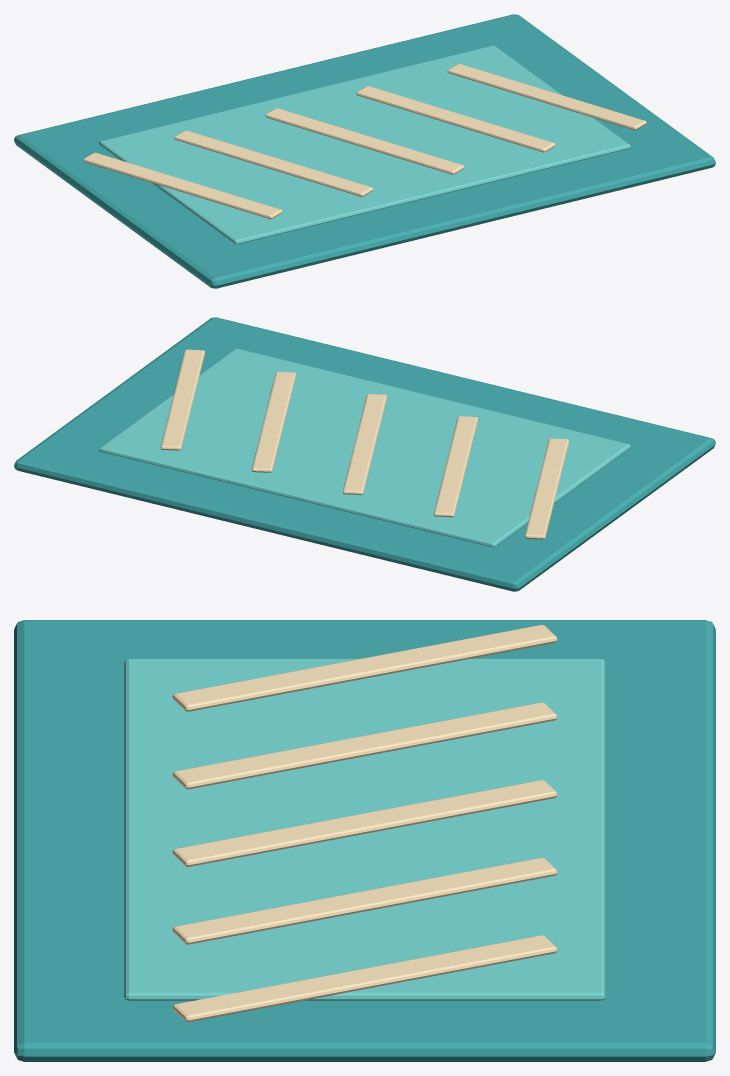
File: WovenCarpet.fbx
3 renders of one model, top to bottom at view 1: azimuth 30°, elevation 25°; view 2: azimuth 150°, elevation 25°; view 3: azimuth 270°, elevation 25°, orthographic. The views are drawn at different scales.
Visible parts, largest first — view 1: Carpet_Base, Carpet_Center, Carpet_Detail, Carpet_Detail.004, Carpet_Detail.001, Carpet_Detail.002, Carpet_Detail.003; view 2: Carpet_Base, Carpet_Center, Carpet_Detail.001, Carpet_Detail.003, Carpet_Detail.004, Carpet_Detail, Carpet_Detail.002; view 3: Carpet_Base, Carpet_Center, Carpet_Detail.004, Carpet_Detail, Carpet_Detail.001, Carpet_Detail.002, Carpet_Detail.003.
Boxes of the visible parts, <box> form: Carpet_Base: <box>14,14,715,288</box>; Carpet_Center: <box>99,45,630,244</box>; Carpet_Detail: <box>83,152,282,219</box>; Carpet_Detail.004: <box>447,64,646,130</box>; Carpet_Detail.001: <box>174,130,373,196</box>; Carpet_Detail.002: <box>265,108,464,174</box>; Carpet_Detail.003: <box>356,86,555,152</box>; Carpet_Base: <box>14,317,715,591</box>; Carpet_Center: <box>99,348,630,547</box>; Carpet_Detail.001: <box>433,416,478,517</box>; Carpet_Detail.003: <box>251,371,296,472</box>; Carpet_Detail.004: <box>160,349,205,450</box>; Carpet_Detail: <box>524,438,569,539</box>; Carpet_Detail.002: <box>342,394,387,494</box>; Carpet_Base: <box>14,620,715,1061</box>; Carpet_Center: <box>124,658,605,1000</box>; Carpet_Detail.004: <box>172,935,557,1022</box>; Carpet_Detail: <box>172,625,557,711</box>; Carpet_Detail.001: <box>172,702,557,789</box>; Carpet_Detail.002: <box>172,780,557,866</box>; Carpet_Detail.003: <box>172,857,557,944</box>.
Size of the model in its own units: 250 by 8.1 by 172.
